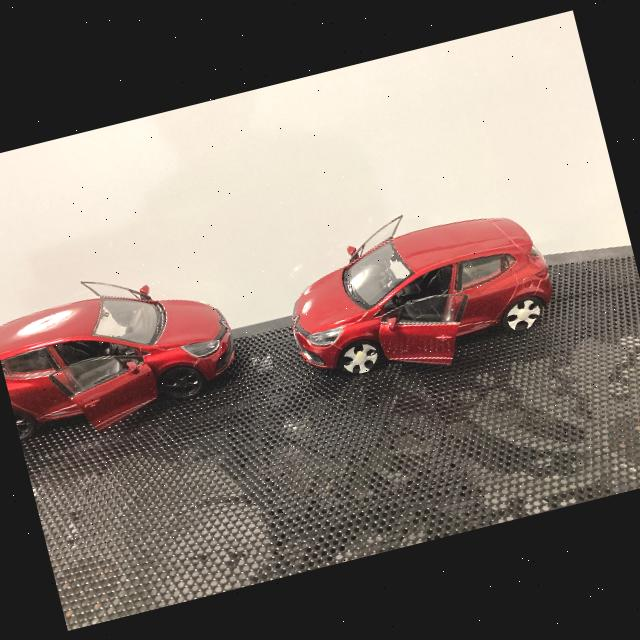Dogru_Jant: (164, 368, 200, 398), (14, 412, 33, 438)
Yanlis_Jant: (339, 340, 382, 377), (502, 296, 544, 332)
